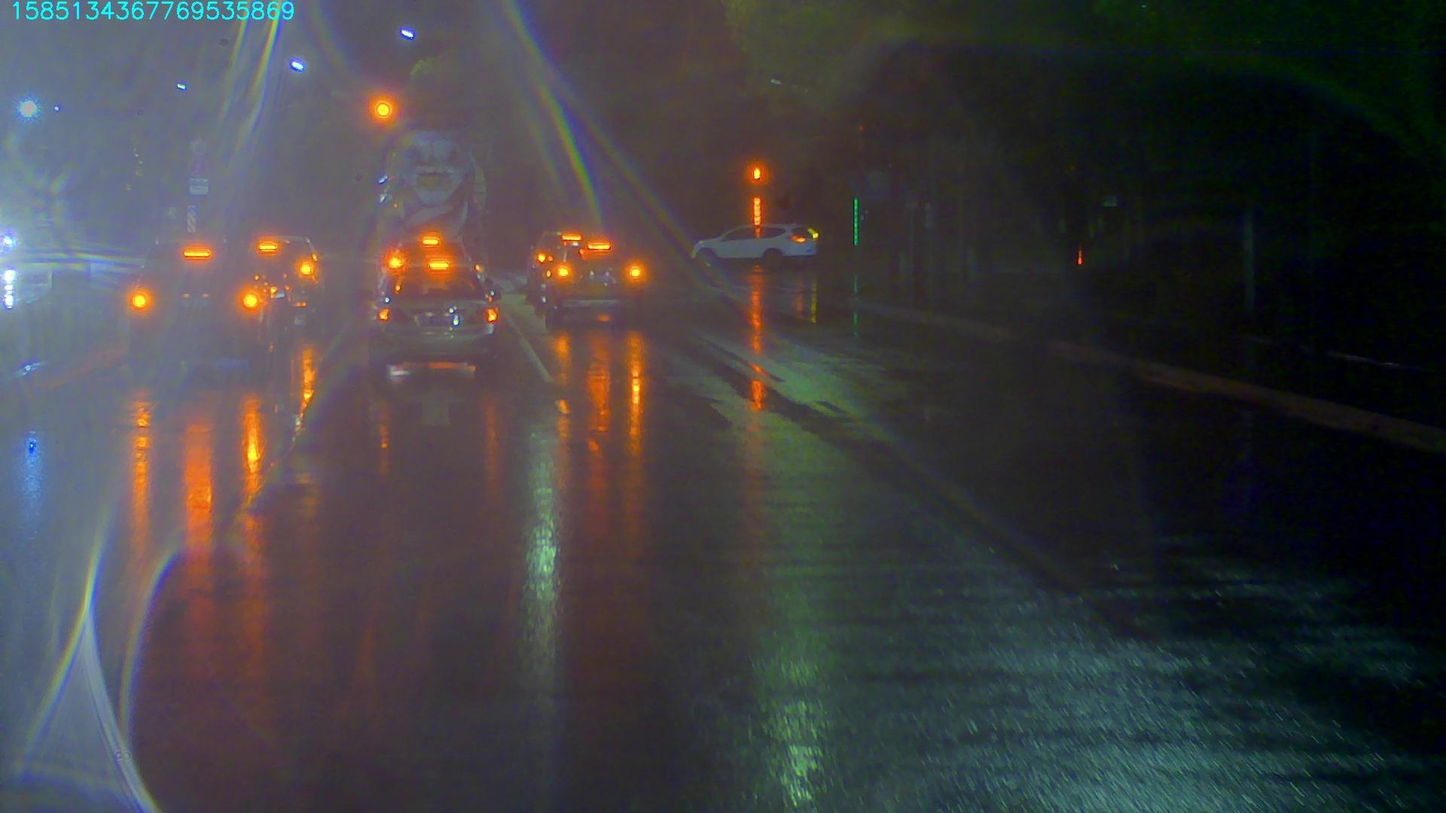red: (359, 87, 398, 129)
